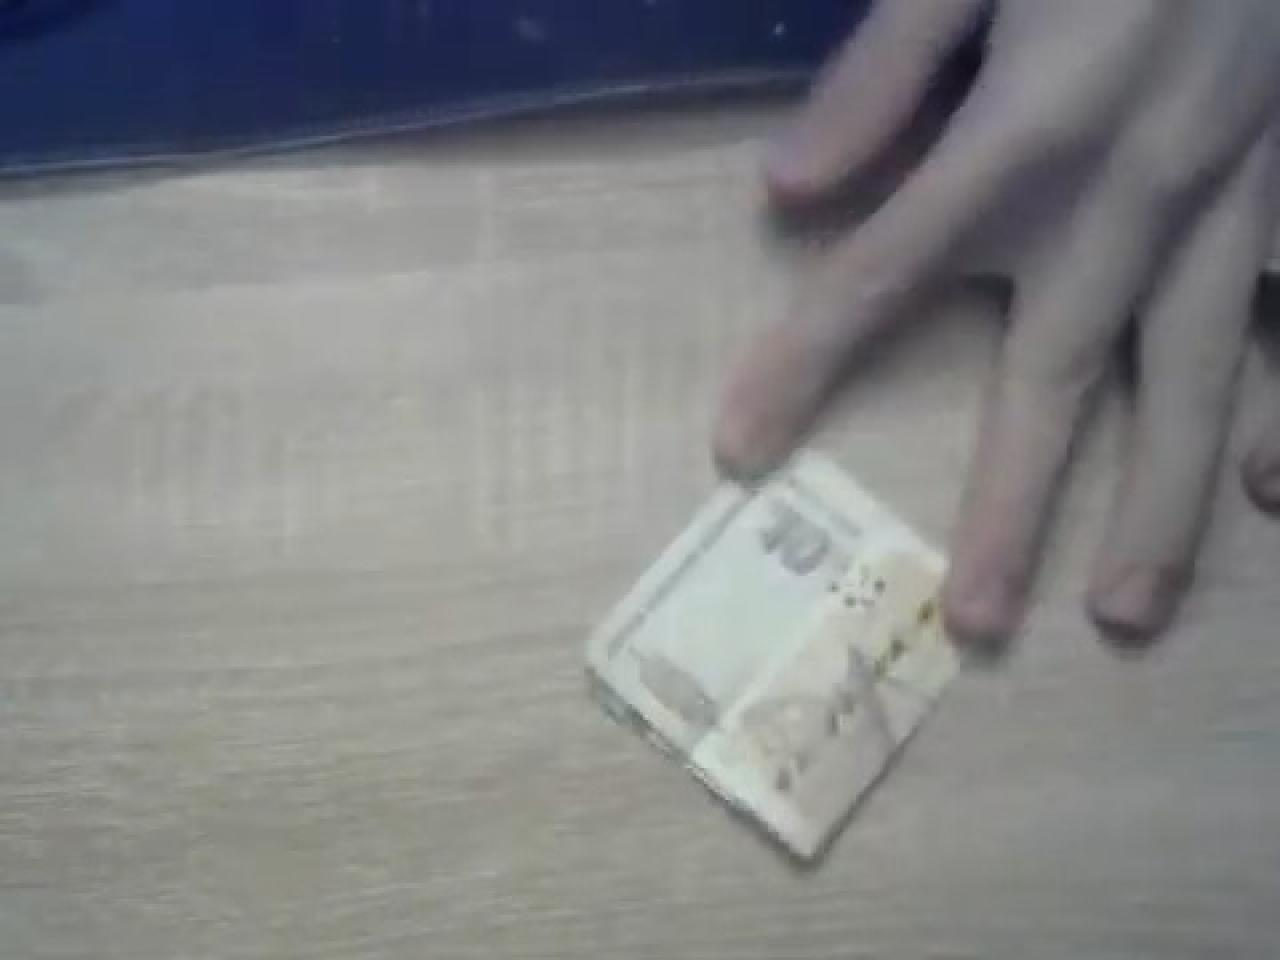10leva: (584, 443, 966, 864)
